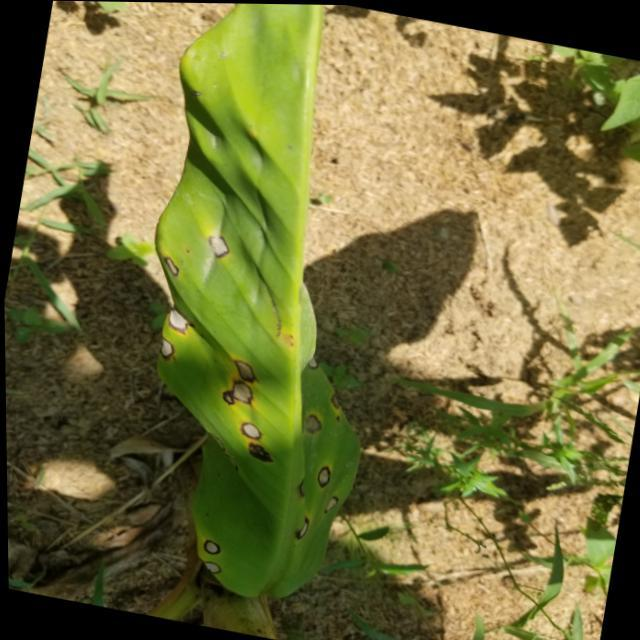Early_rust: (119, 203, 376, 577)
